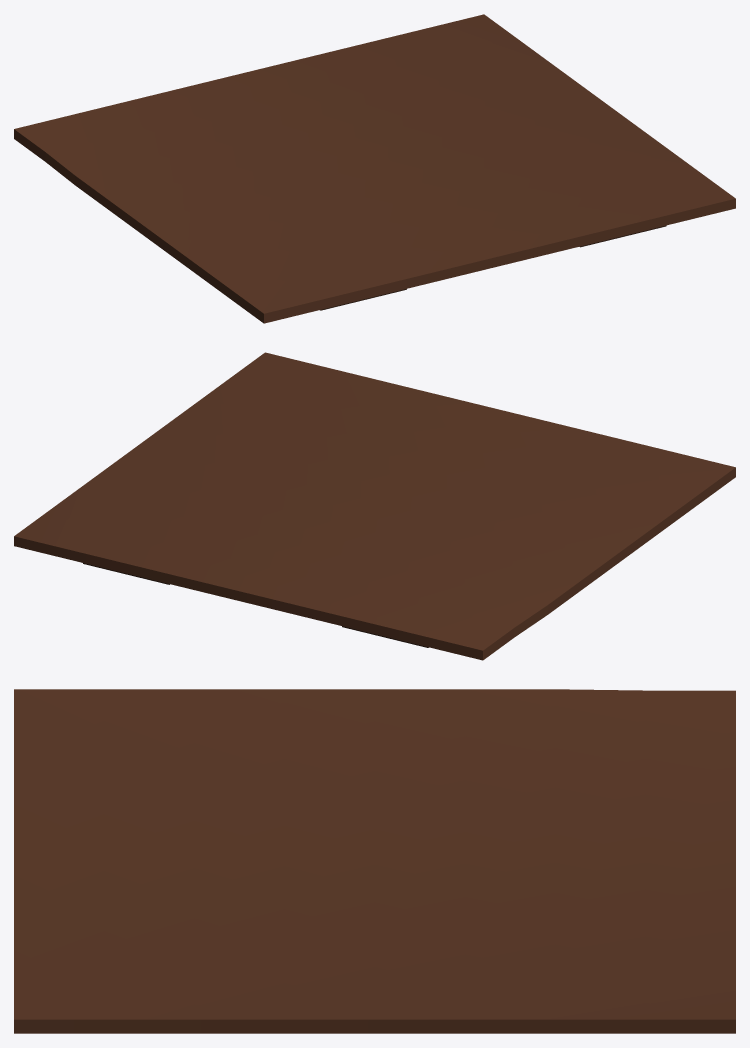
Rendered from Med Single Dark Crate Lid.fbx.
3 views of the same model, one above another, from view 1: azimuth 30°, elevation 25°; view 2: azimuth 150°, elevation 25°; view 3: azimuth 270°, elevation 25° (orthographic). The views are drawn at different scales.
Visible parts, largest first — view 1: Med Single Dark Crate Lid; view 2: Med Single Dark Crate Lid; view 3: Med Single Dark Crate Lid.
Part boxes in pixels (bbox=[...]): Med Single Dark Crate Lid: bbox=[14, 14, 735, 323]; Med Single Dark Crate Lid: bbox=[14, 352, 735, 660]; Med Single Dark Crate Lid: bbox=[14, 689, 735, 1033].
Bounding box in the file's own units: 7.13 × 192 × 208.
1 material, 1 textured.
